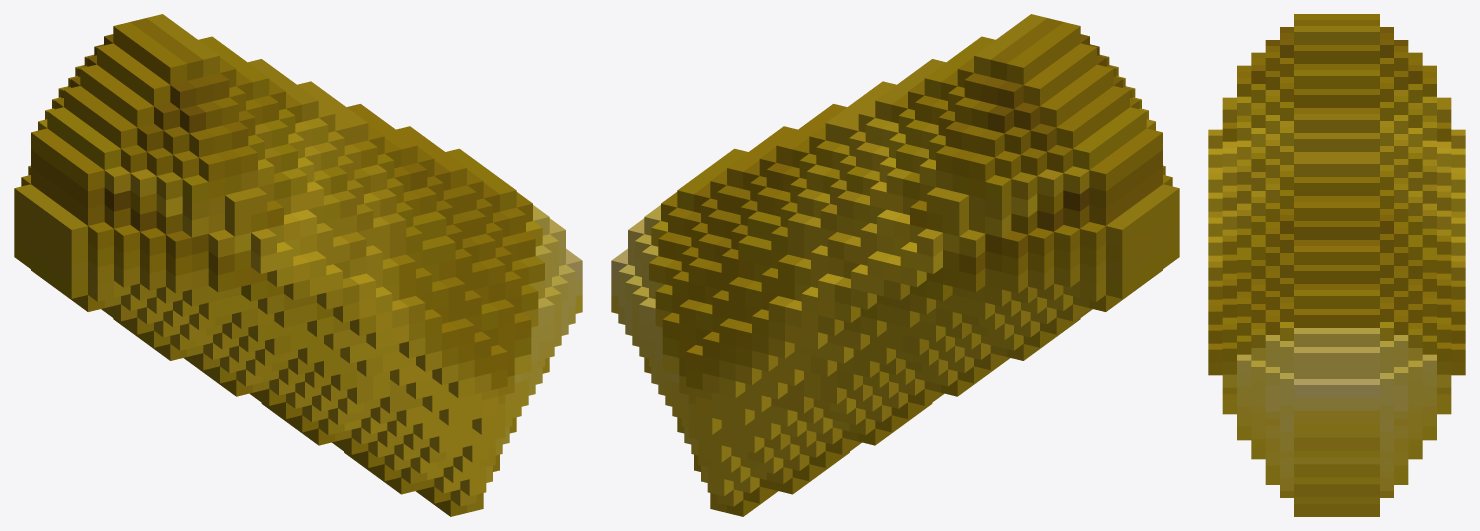
The model's file is brassbar.glb.
3 views of the same model, side by side, from view 1: azimuth 30°, elevation 25°; view 2: azimuth 150°, elevation 25°; view 3: azimuth 270°, elevation 25° (orthographic). The views are drawn at different scales.
Size of the model in its own units: 0.9688 by 0.9375 by 0.5625.
